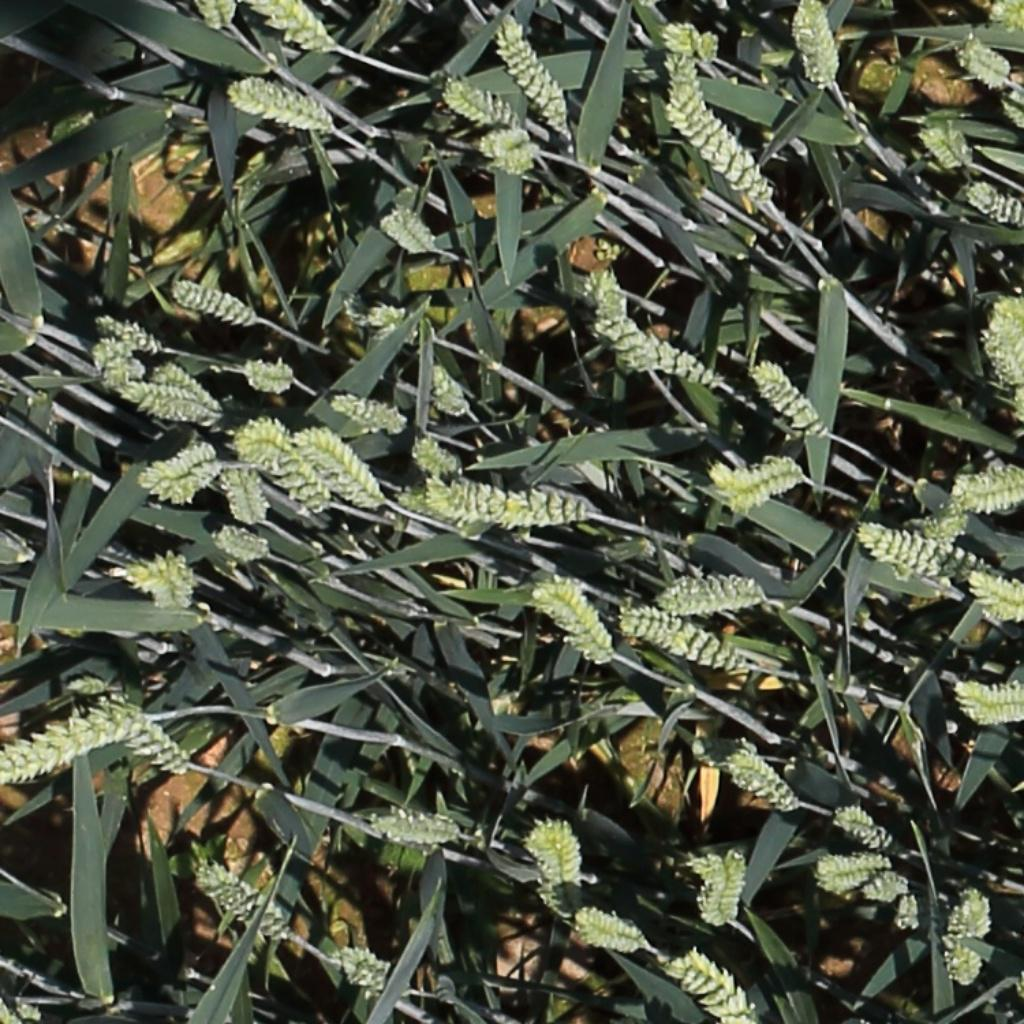0-0: (664, 82, 775, 204), (0, 708, 158, 789), (231, 417, 337, 514), (615, 601, 751, 673), (495, 11, 574, 134), (189, 855, 295, 946), (98, 693, 200, 786), (290, 421, 389, 510), (528, 570, 616, 666), (658, 945, 762, 1024), (522, 812, 589, 927), (590, 267, 655, 376), (855, 520, 954, 591), (749, 359, 836, 436), (226, 76, 339, 135), (133, 438, 225, 510), (722, 449, 812, 519), (106, 545, 200, 612), (875, 526, 994, 577), (101, 552, 202, 610), (657, 571, 776, 618), (248, 0, 341, 58), (647, 330, 729, 391), (328, 943, 414, 1000), (166, 279, 259, 330), (494, 487, 599, 532), (790, 0, 841, 91), (829, 804, 910, 861), (697, 843, 750, 927), (437, 76, 523, 127), (947, 460, 1024, 515), (569, 906, 652, 957), (368, 807, 472, 847), (148, 357, 225, 411), (726, 753, 800, 809), (948, 677, 1024, 731), (815, 847, 898, 896), (325, 391, 412, 435), (427, 475, 507, 522), (985, 299, 1024, 395), (364, 303, 445, 348), (965, 564, 1024, 622), (893, 885, 961, 935), (91, 310, 162, 357), (375, 204, 439, 256), (222, 464, 273, 527), (948, 878, 998, 941), (955, 39, 1014, 89), (916, 120, 974, 169), (209, 522, 273, 566), (681, 733, 767, 765), (963, 178, 1024, 222), (421, 361, 468, 417), (941, 931, 986, 987), (849, 868, 919, 904), (137, 393, 213, 425), (409, 435, 464, 477), (239, 358, 297, 396), (113, 379, 204, 403), (470, 127, 534, 158), (63, 666, 118, 702), (906, 515, 974, 544), (657, 22, 705, 62), (0, 523, 43, 567), (485, 142, 542, 175), (392, 485, 447, 519), (195, 0, 241, 35), (90, 334, 140, 366), (100, 356, 150, 388), (659, 50, 705, 82), (339, 288, 373, 325), (706, 456, 739, 489), (990, 0, 1024, 30), (999, 92, 1024, 132), (698, 33, 726, 64), (1011, 387, 1024, 442)
